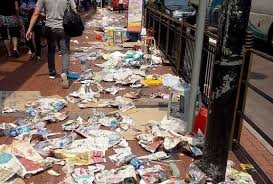garbage: (29, 101, 128, 184), (144, 123, 190, 184), (1, 115, 29, 184), (98, 50, 147, 89), (75, 51, 97, 100), (95, 22, 124, 45)
